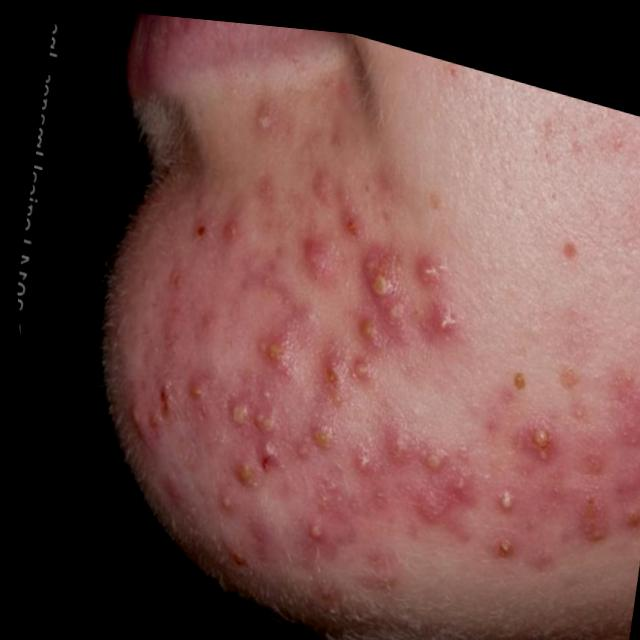pustule: (95, 161, 622, 570)
